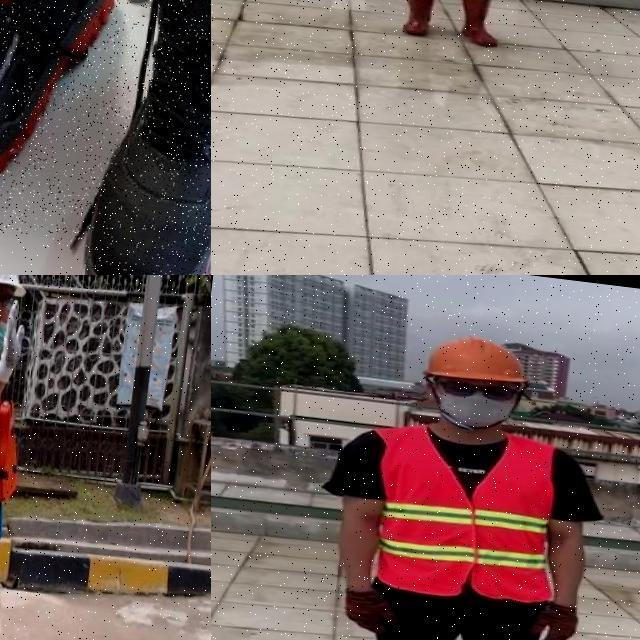boots: (75, 0, 211, 275), (0, 0, 138, 245), (452, 0, 501, 48), (396, 0, 440, 38)
helmet: (423, 327, 533, 387), (0, 275, 33, 306)
vest: (356, 424, 566, 607), (0, 331, 33, 549)
